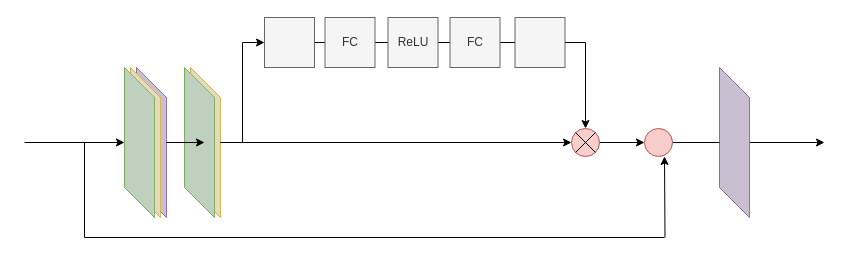
Some shapes in this 850 by 263 pixel diagram are drawn without their labels. The shapes that lost their labels are listed below. From the top down, each one's box as (x1, y1, x2, y2) in pixels, then its label:
(264, 16, 314, 68): AvgPool
(514, 16, 565, 68): Sigmod
